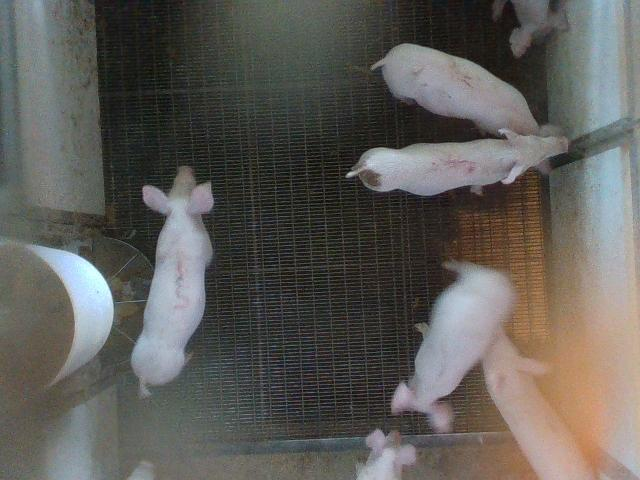pig-3: (131, 166, 214, 397)
pig-5: (346, 129, 568, 196)
